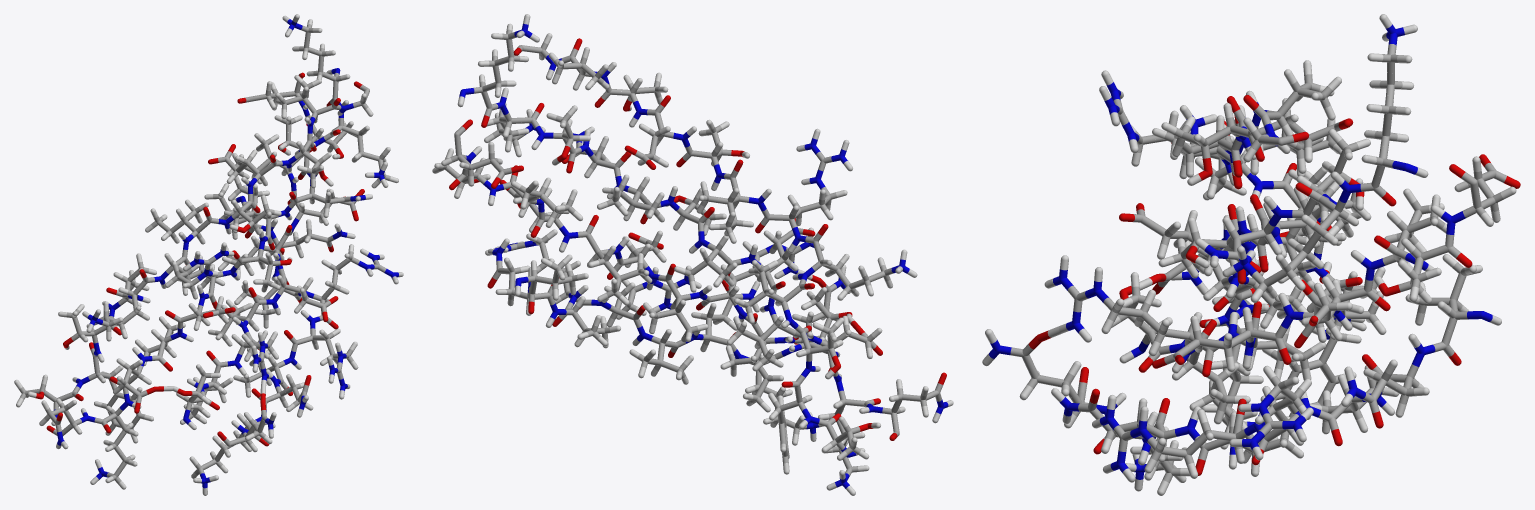
Rendered from 4r80-with-Hs--sheet-sticks.gltf.
3 renders of one model, left to right at view 1: azimuth 30°, elevation 25°; view 2: azimuth 150°, elevation 25°; view 3: azimuth 270°, elevation 25°, orthographic. The views are drawn at different scales.
Visible parts, largest first — view 1: vmd_mol0_rep1; view 2: vmd_mol0_rep1; view 3: vmd_mol0_rep1.
Part boxes in pixels (x1=…): vmd_mol0_rep1: x1=14, y1=14, x2=403, y2=495; vmd_mol0_rep1: x1=432, y1=14, x2=953, y2=495; vmd_mol0_rep1: x1=982, y1=14, x2=1520, y2=495.
Bounding box in the file's own units: 2.76 × 2.71 × 2.18.
